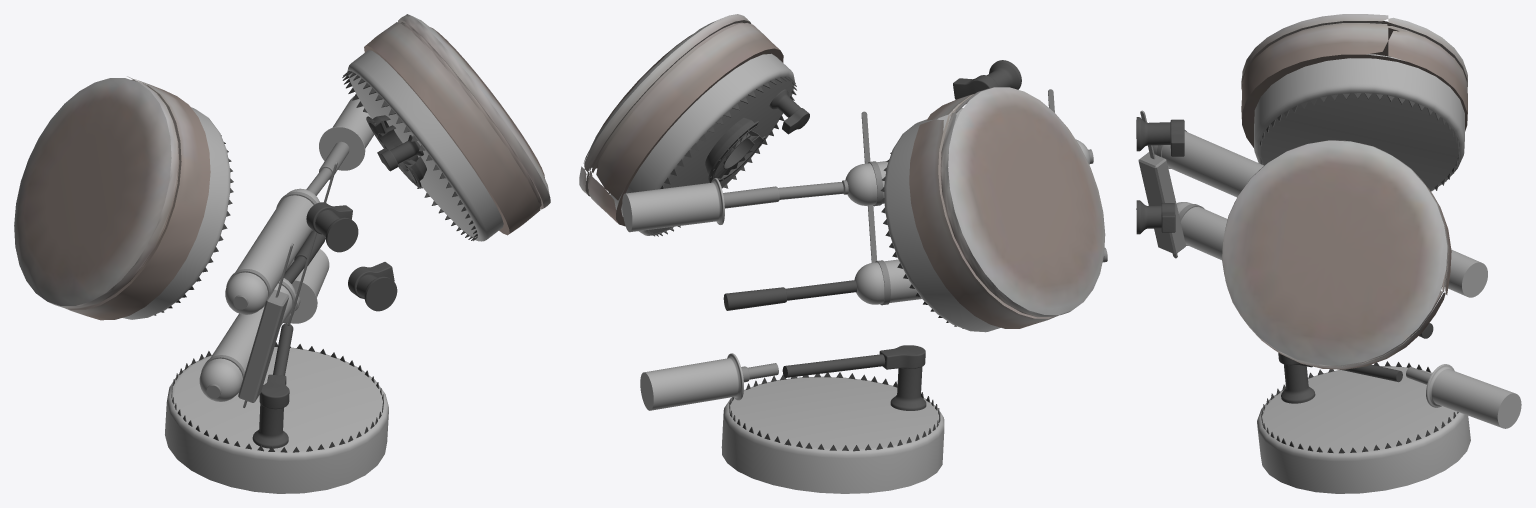
3 renders of one model, left to right at view 1: azimuth 30°, elevation 25°; view 2: azimuth 150°, elevation 25°; view 3: azimuth 270°, elevation 25°, orthographic. The views are drawn at different scales.
Visible parts, largest first — view 1: object 8, Circle020, object 31, Circle003, Capsule001, Circle021, Capsule002, Rectangle003, Circle004, Circle007, Obj3d66_8756508_127_243, Circle025 (+8 smaller); view 2: object 8, Circle020, object 31, Circle003, Circle021, Circle007, Circle004, Obj3d66_8756508_127_243, Circle022, Capsule002, Circle005, Capsule001 (+6 smaller); view 3: object 31, Circle020, Circle021, object 8, Circle007, Capsule001, Rectangle003, Capsule002, Circle004, Circle015, Circle025, Circle026 (+3 smaller).
Part boxes in pixels (bbox=[...]): object 8: bbox=[14, 76, 210, 320]; Circle020: bbox=[165, 347, 388, 493]; object 31: bbox=[364, 14, 550, 235]; Circle003: bbox=[347, 50, 503, 241]; Capsule001: bbox=[225, 188, 319, 314]; Circle021: bbox=[122, 107, 230, 319]; Capsule002: bbox=[199, 278, 295, 401]; Rectangle003: bbox=[238, 289, 289, 402]; Circle004: bbox=[319, 96, 374, 170]; Circle007: bbox=[285, 249, 329, 323]; Obj3d66_8756508_127_243: bbox=[366, 115, 426, 187]; Circle025: bbox=[315, 210, 358, 252]; object 8: bbox=[909, 87, 1105, 328]; Circle020: bbox=[721, 376, 944, 493]; object 31: bbox=[579, 14, 783, 226]; Circle003: bbox=[610, 53, 794, 235]; Circle021: bbox=[884, 108, 1000, 332]; Circle007: bbox=[640, 353, 743, 410]; Circle004: bbox=[622, 178, 724, 232]; Obj3d66_8756508_127_243: bbox=[705, 117, 765, 182]; Circle022: bbox=[723, 280, 856, 310]; Capsule002: bbox=[854, 259, 921, 304]; Circle005: bbox=[723, 182, 843, 208]; Capsule001: bbox=[845, 139, 1090, 205]; object 31: bbox=[1222, 140, 1451, 369]; Circle020: bbox=[1257, 366, 1470, 493]; Circle021: bbox=[1254, 54, 1464, 191]; object 8: bbox=[1241, 14, 1467, 147]; Circle007: bbox=[1426, 364, 1521, 428]; Capsule001: bbox=[1152, 131, 1263, 197]; Rectangle003: bbox=[1138, 152, 1185, 254]; Capsule002: bbox=[1176, 202, 1227, 259]; Circle004: bbox=[1445, 249, 1487, 297]; Circle015: bbox=[1281, 364, 1315, 403]; Circle025: bbox=[1136, 117, 1170, 151]; Circle026: bbox=[1136, 200, 1161, 234].
Bounding box in the file's own units: 6.11 × 4.89 × 4.49.
6 materials, 1 textured.
